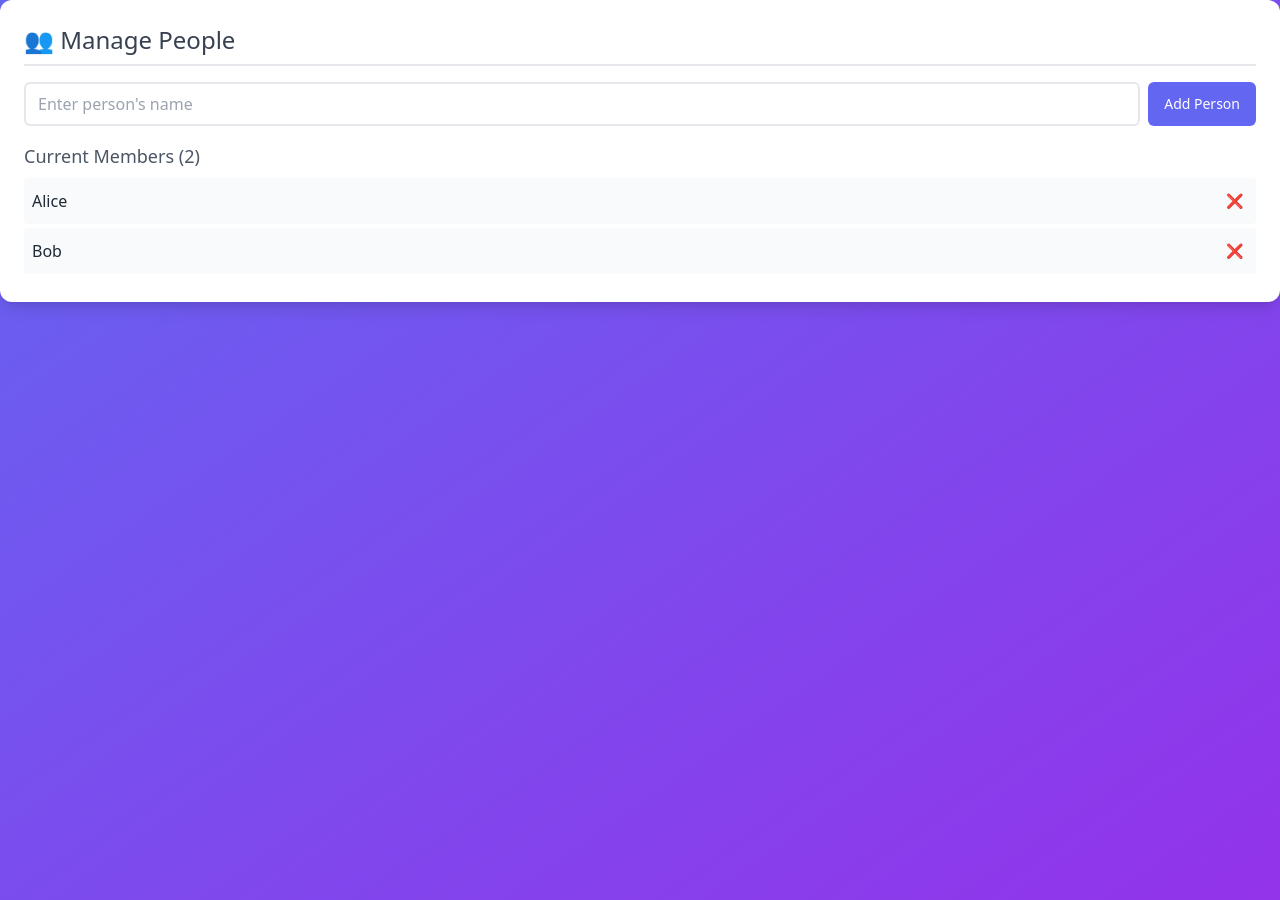
Scenario: PeopleManager › prevents removing person if only 2 people left
Click the button named "Remove Alice".
click(1234, 201)  # box [1221,186,1248,216]
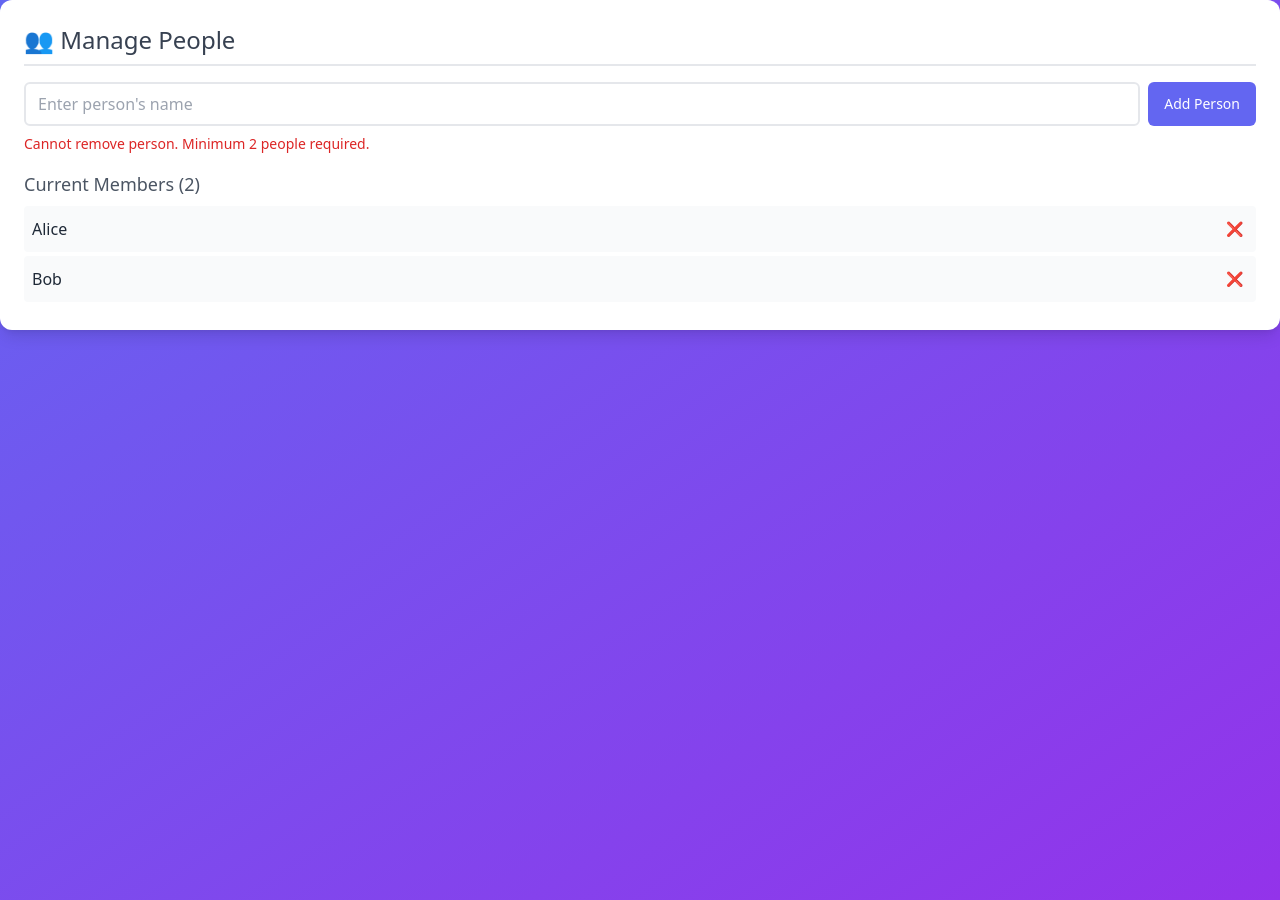
Expected: the text "Alice" is shown, [32,217,67,241]
Result: the text "Cannot remove person. Minimum 2 people required." is shown at [24,134,370,153]
